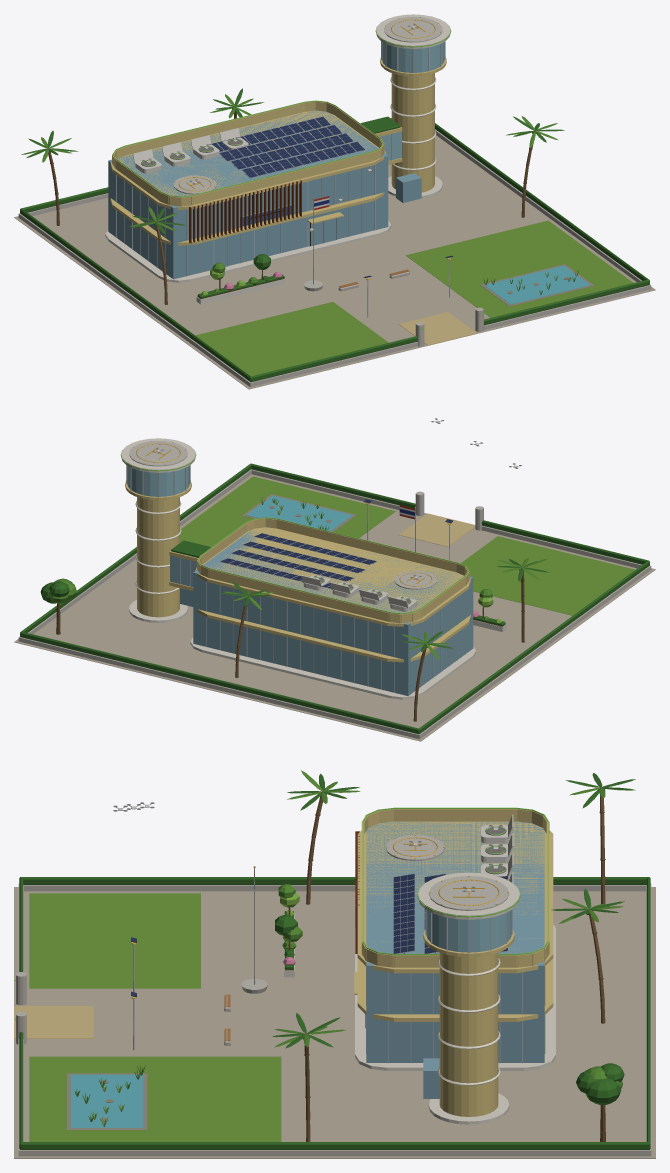
File: police.glb
The picture shows the model from 3 angles, top to bottom: view 1: azimuth 30°, elevation 25°; view 2: azimuth 150°, elevation 25°; view 3: azimuth 270°, elevation 25°; orthographic projection. The views are drawn at different scales.
Parts seen in each view (by area): view 1: body, windows; view 2: body, windows; view 3: body, windows.
Boxes of the visible parts, x1=… form: body: x1=14, y1=14, x2=655, y2=389; windows: x1=112, y1=17, x2=483, y2=329; body: x1=14, y1=418, x2=655, y2=741; windows: x1=120, y1=441, x2=468, y2=614; body: x1=14, y1=770, x2=655, y2=1158; windows: x1=15, y1=807, x2=548, y2=1020.
Bounding box in the file's own units: 50.32 × 18.06 × 47.9.
